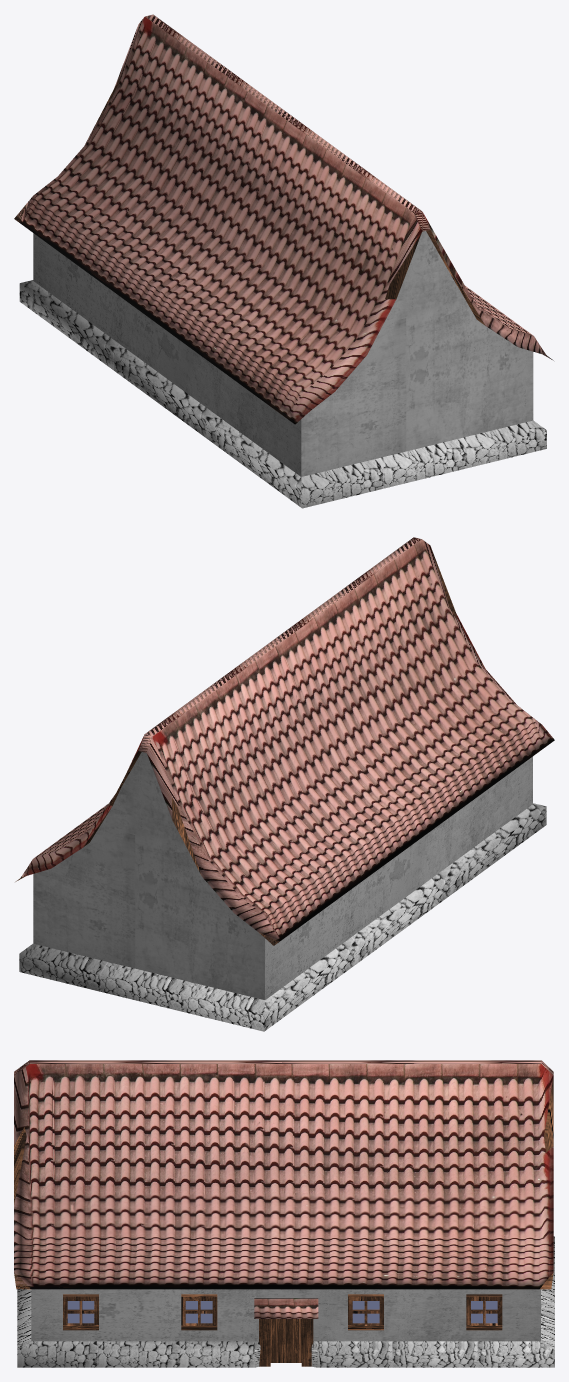
The model's file is House.fbx.
3 views of the same model, one above another, from view 1: azimuth 30°, elevation 25°; view 2: azimuth 150°, elevation 25°; view 3: azimuth 270°, elevation 25° (orthographic). The views are drawn at different scales.
Parts seen in each view (by area): view 1: Cube; view 2: Cube; view 3: Cube.
Boxes of the visible parts, left/top/right/bottom form: Cube: left=14, top=14, right=553, bottom=508; Cube: left=15, top=537, right=554, bottom=1031; Cube: left=14, top=1060, right=554, bottom=1367.
Size of the model in its own units: 42.47 by 22.63 by 21.55.
